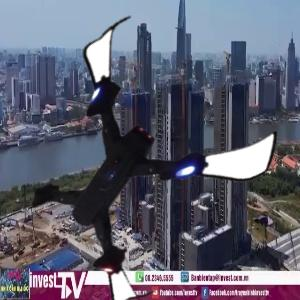drone: (8, 31, 254, 277)
